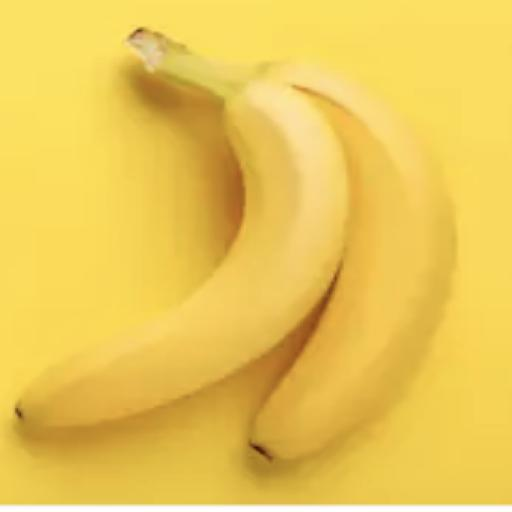banana: (17, 30, 349, 427), (252, 64, 455, 460)
